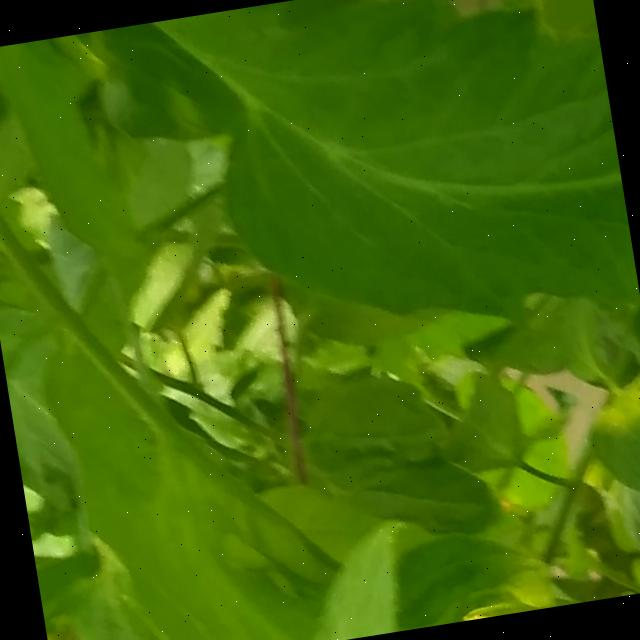tomato: (339, 0, 640, 595)
